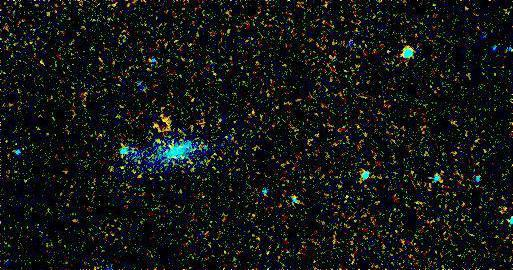star: (144, 104, 174, 134)
